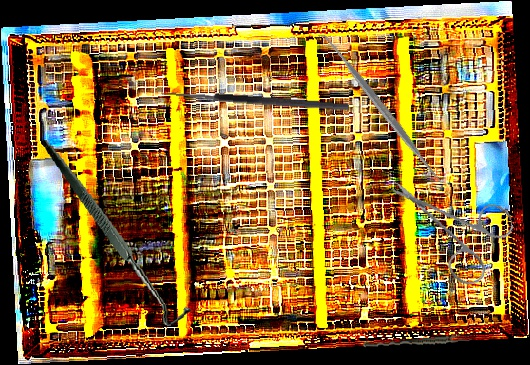Hook Surgical: (42, 123, 193, 340), (159, 89, 350, 121)
Iris Scissors: (389, 160, 523, 296)
Spatula Surgical: (313, 25, 450, 191)
Tissue Forceps: (362, 332, 473, 351)
